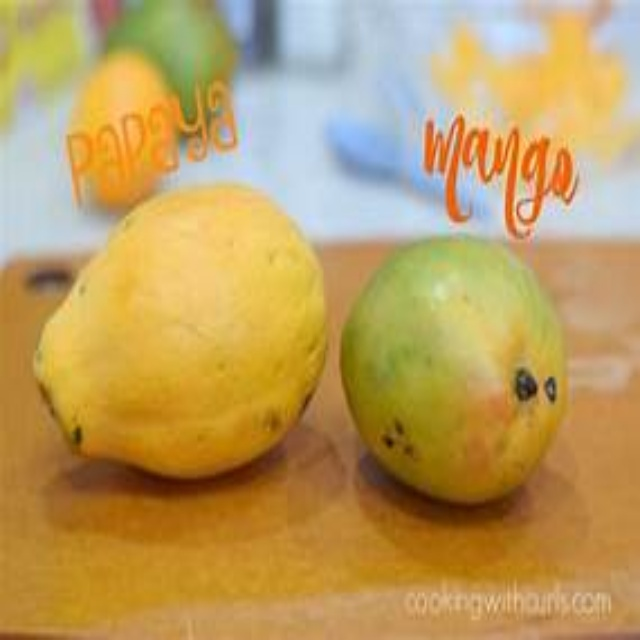mango: (344, 236, 570, 507)
